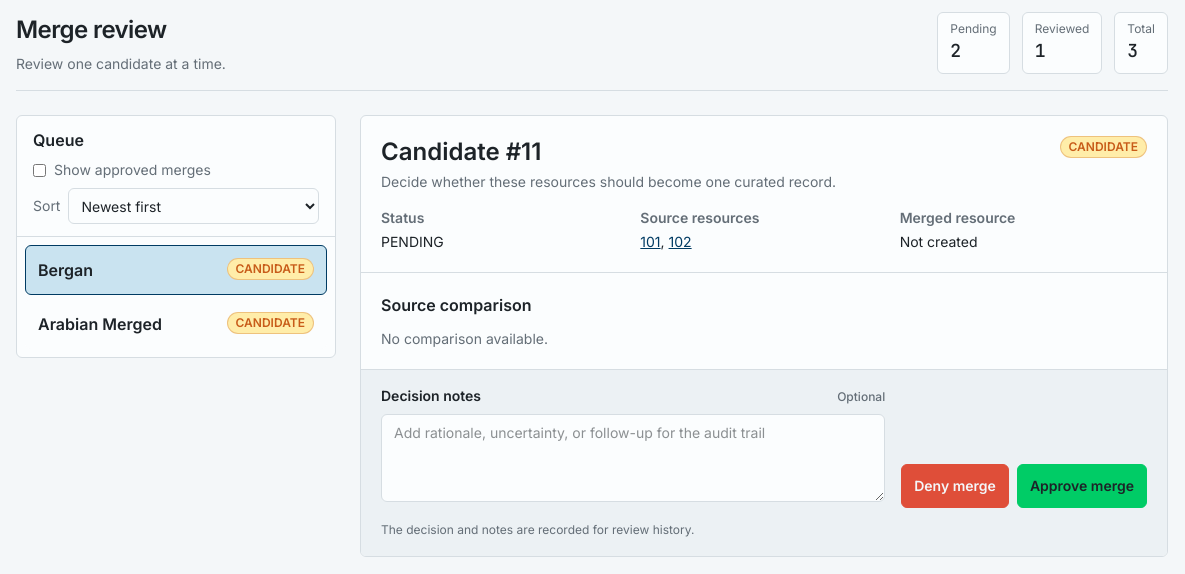
Test: MergeCandidateReviewPage › advances to the next pending candidate and clears notes after review
In the text box labelled "Decision notes": [633, 458] box [381,414,885,502], type "Done reviewing"
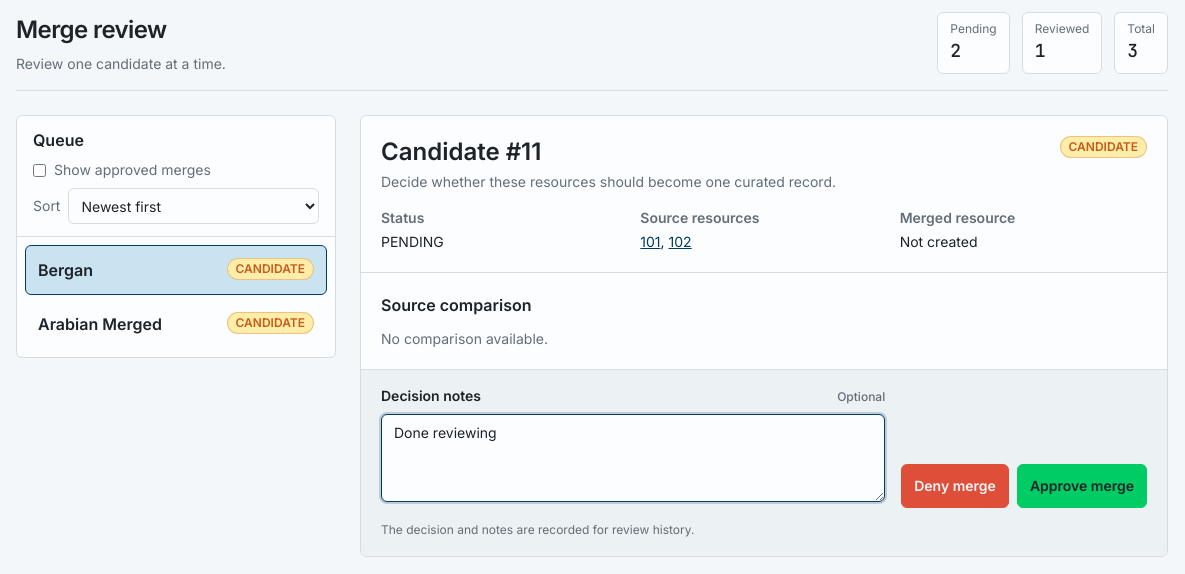
Click the button "Approve merge": [1082, 486] box [1017,464,1147,508]
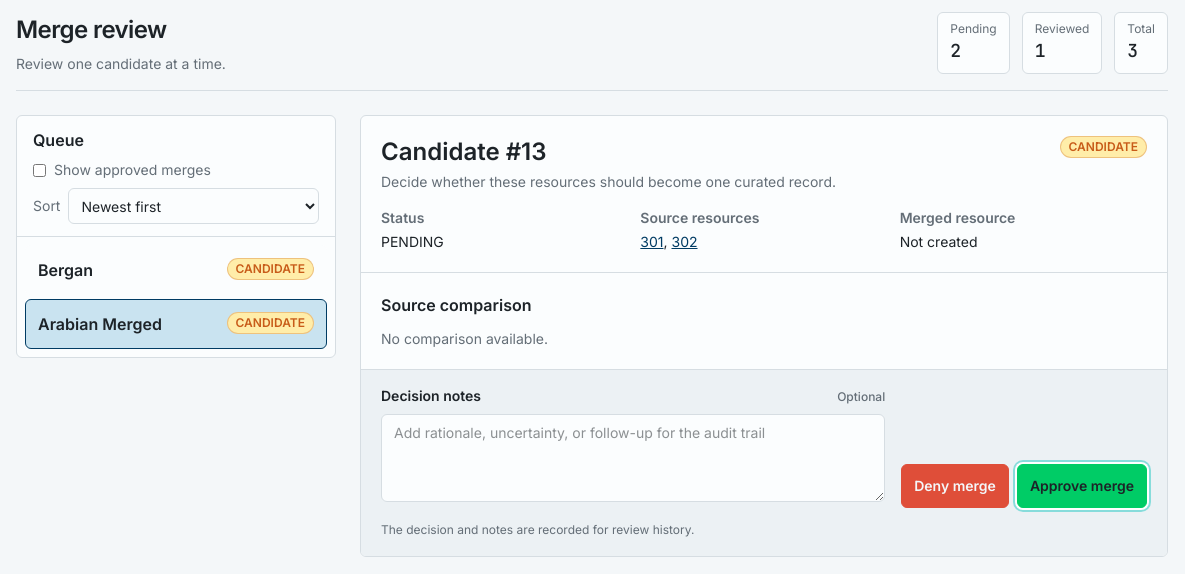
Now the heading "Candidate #13" is shown, box [381,137,546,166]
Now the text box labelled "Decision notes" is empty, box [381,414,885,502]
